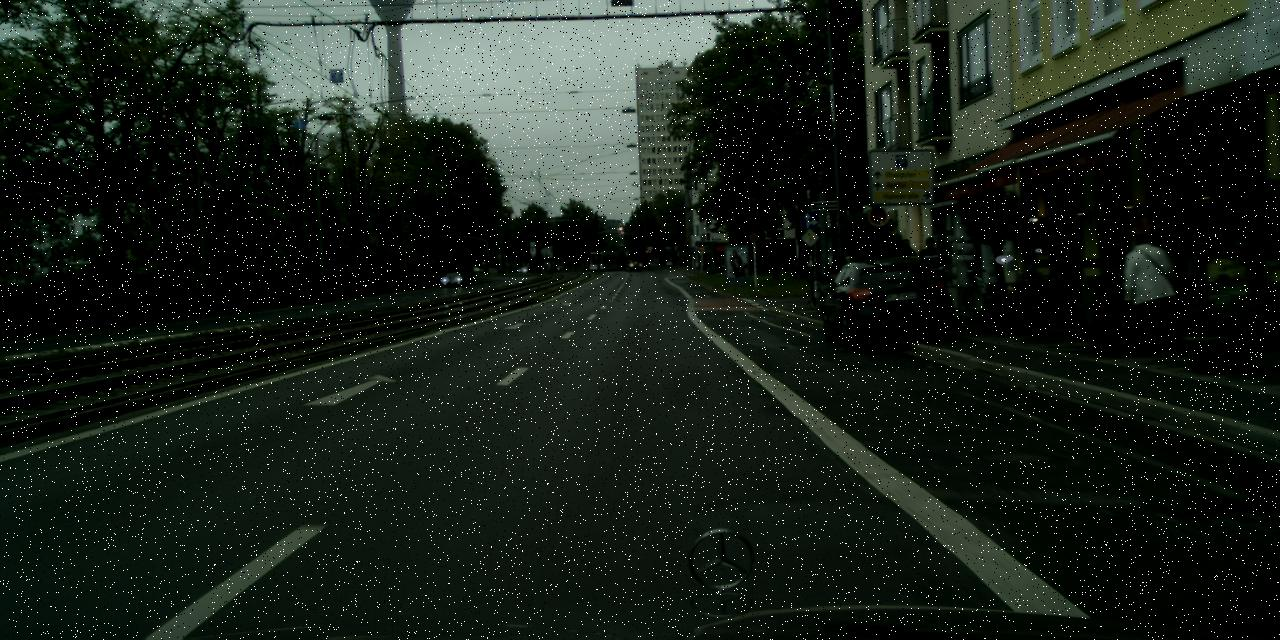ped: (1122, 230, 1171, 351), (918, 236, 947, 308), (894, 239, 919, 299)
